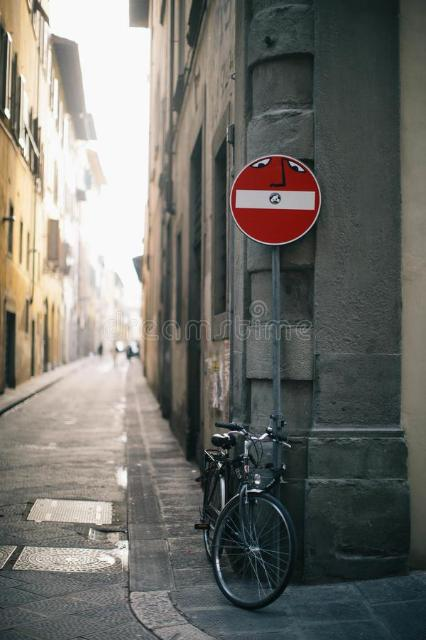B2: (228, 154, 322, 246)
